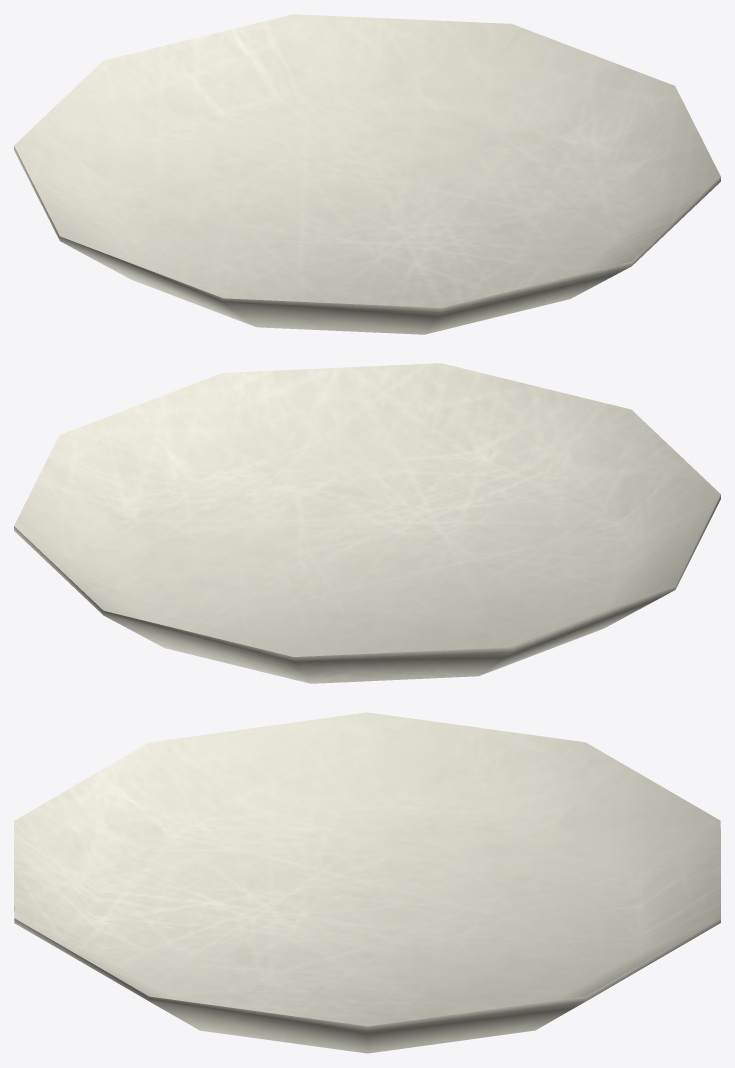
File: dish01a.fbx
The picture shows the model from 3 angles, top to bottom: view 1: azimuth 30°, elevation 25°; view 2: azimuth 150°, elevation 25°; view 3: azimuth 270°, elevation 25°; orthographic projection. The views are drawn at different scales.
Parts seen in each view (by area): view 1: dish01a; view 2: dish01a; view 3: dish01a.
Part boxes in pixels (left/top/right/bottom): dish01a: left=14, top=14, right=720, bottom=334; dish01a: left=14, top=363, right=720, bottom=683; dish01a: left=14, top=712, right=720, bottom=1053.
Bounding box in the file's own units: 27.08 × 2.56 × 25.76.
